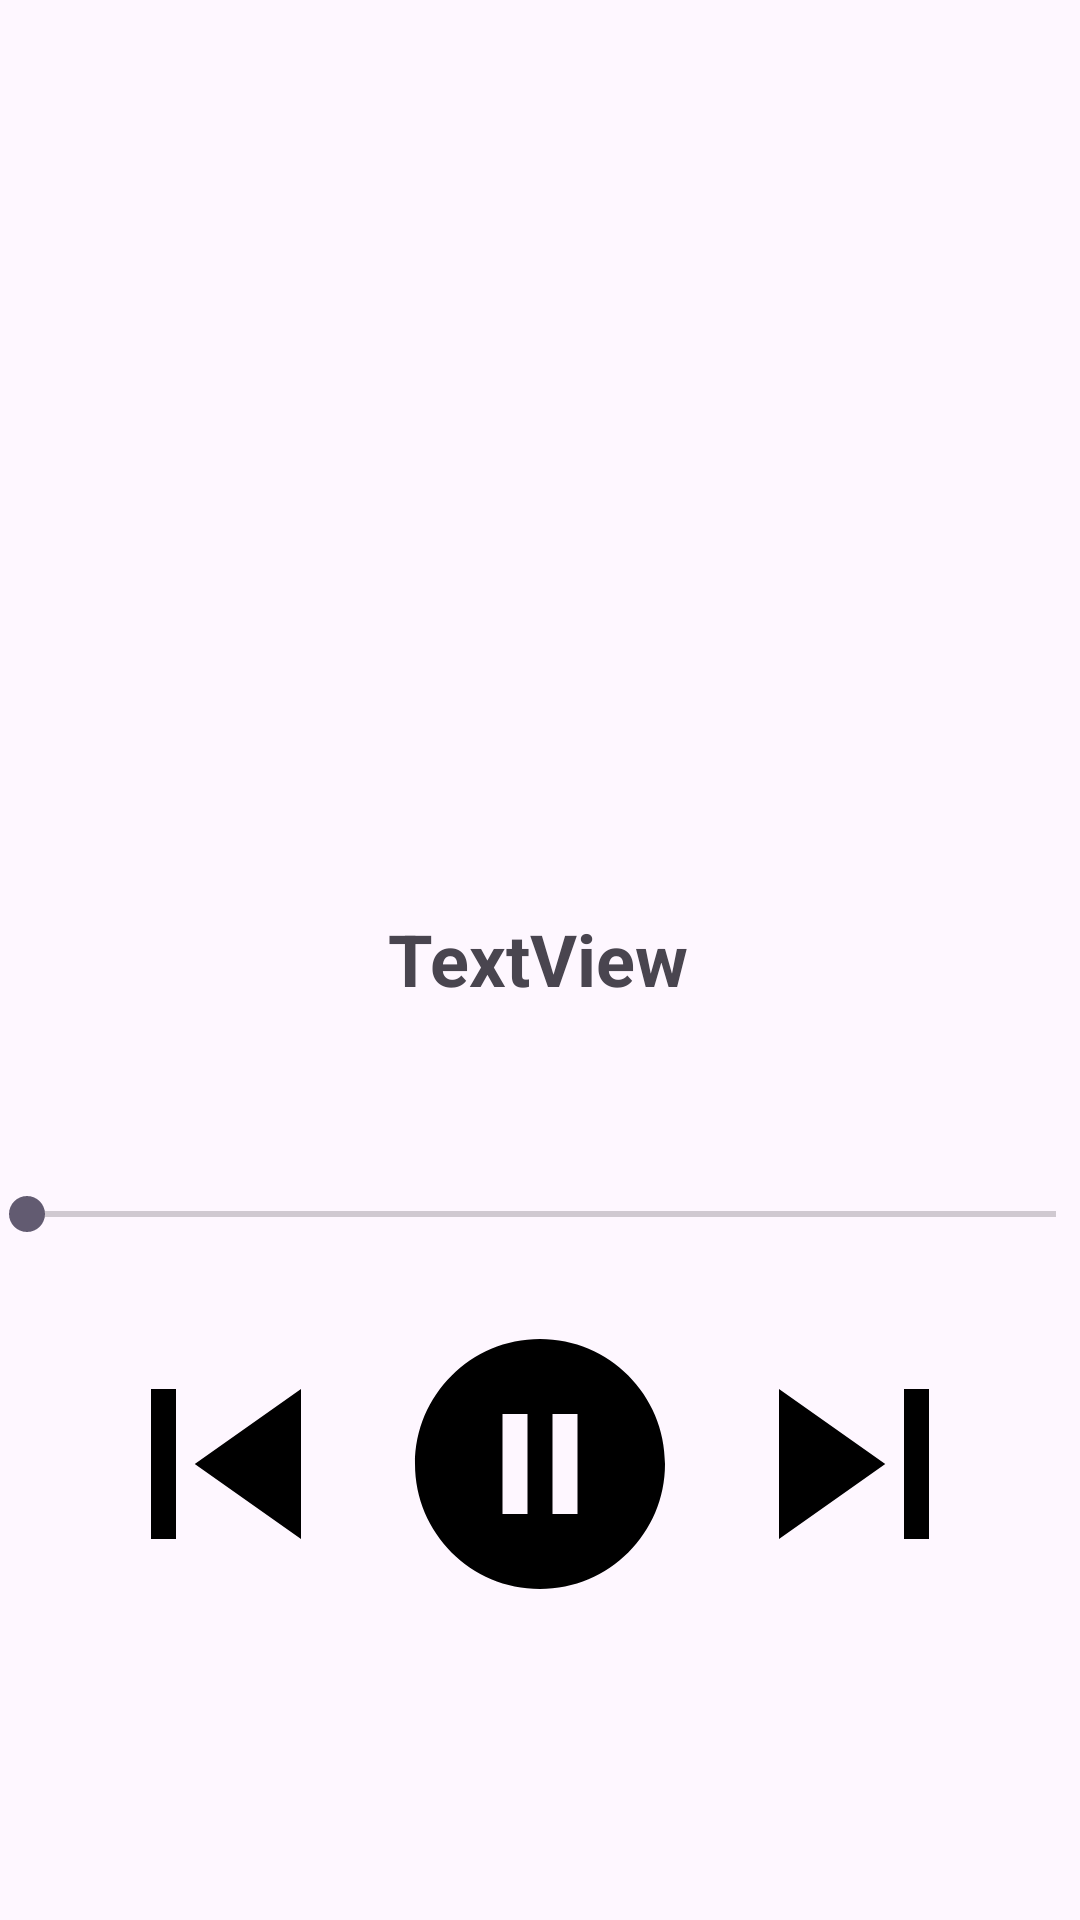

Screen size 1080x1920. Icon name, then its center in pixels as (x=x, y=y):
pause: (x=540, y=1464)
skipnext: (x=854, y=1464)
skipprevious: (x=226, y=1464)
